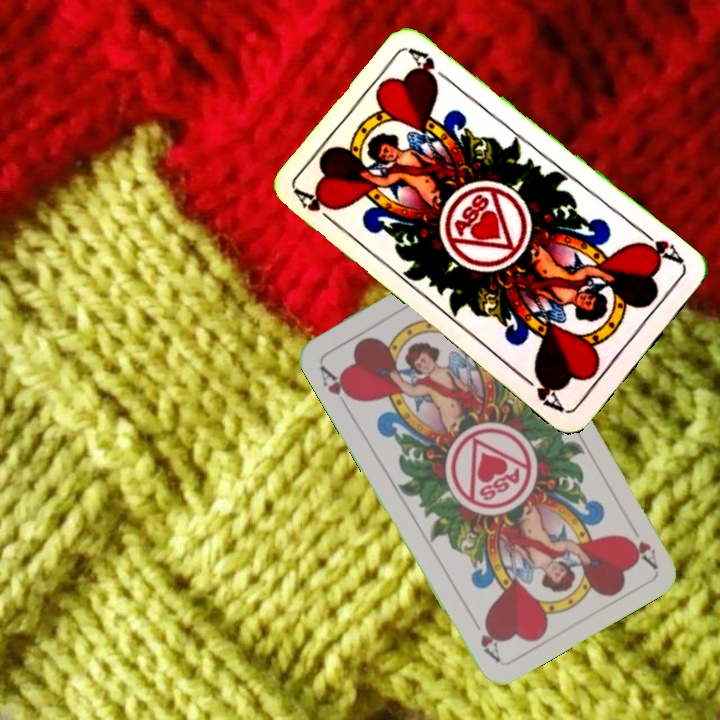HA: (633, 225, 687, 268), (292, 186, 342, 231), (621, 516, 660, 570), (316, 361, 359, 404)
